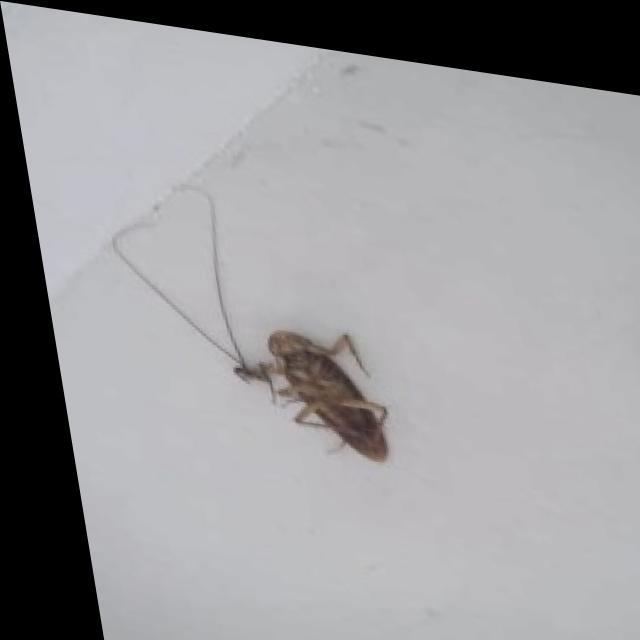cockroach: (231, 325, 394, 466)
